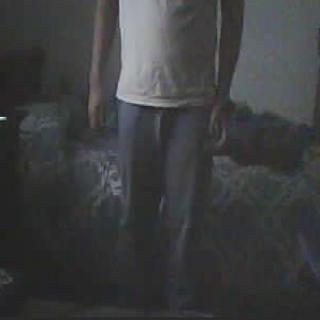Gray Sweatpants: (109, 103, 210, 315)
Yellow T-Shirt: (117, 0, 214, 103)
